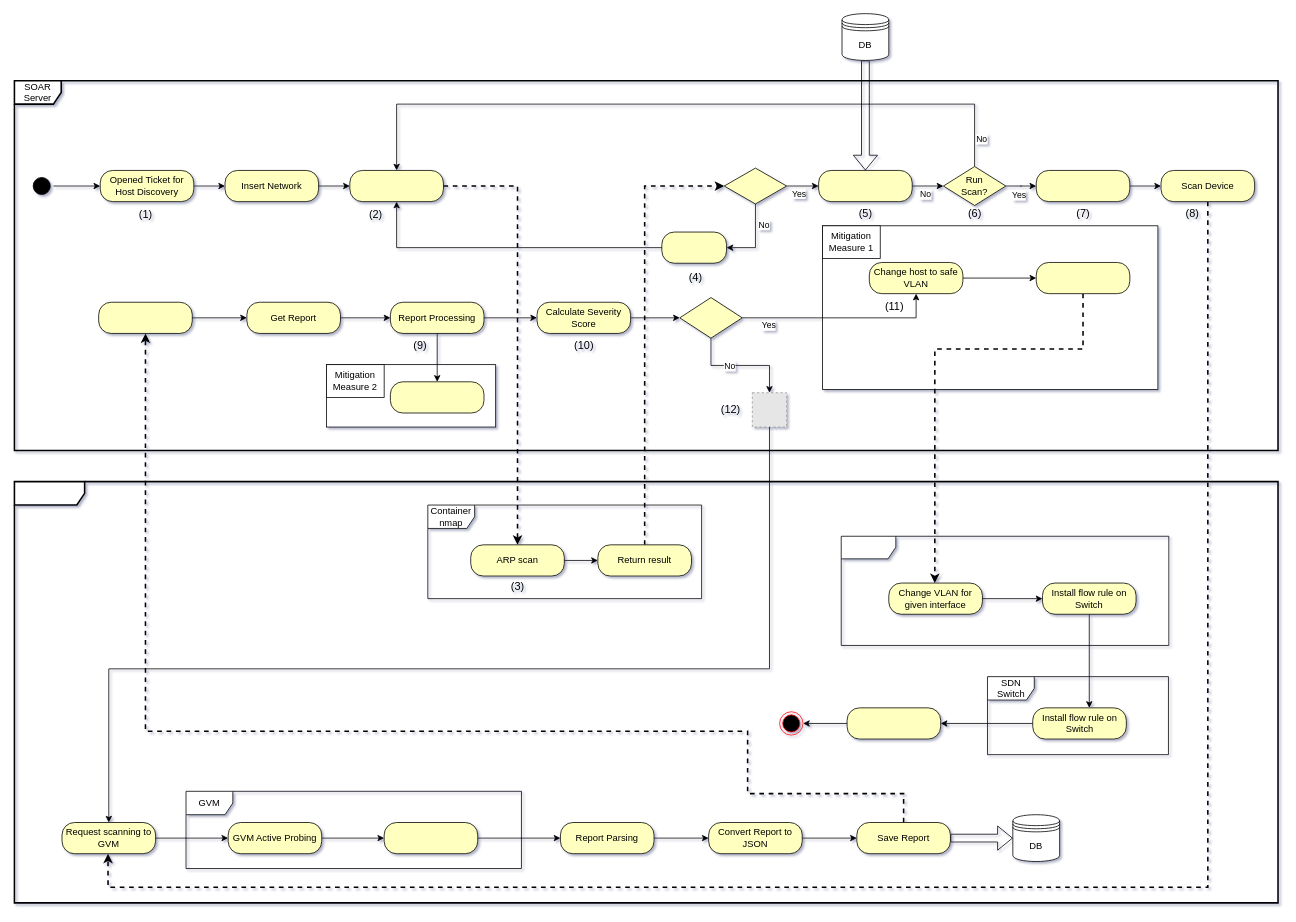
Some shapes in this 1296 by 922 pixel diagram are drawn without their labels. Grey dashed boxes stand in for pictures. Here are the shapes that lost their labels. From the top down, the box of each, then its label:
(349, 170, 443, 202): Device Discovery Request
(723, 167, 787, 204): Hosts found?
(818, 170, 912, 202): Check Host Status
(1035, 170, 1130, 202): Create Vulnerability Scanning Ticket
(661, 231, 727, 263): Wait 120 sec
(1035, 262, 1130, 294): Request SDN Controller
(98, 301, 192, 333): Create Assessment Ticket
(679, 297, 742, 338): Severity > 5
(390, 381, 484, 413): Policy Action
(840, 535, 1169, 645): SDN Controller
(13, 480, 1278, 903): Security Tools Server
(846, 707, 941, 739): Device safe
(383, 822, 478, 854): XML Report Generation
